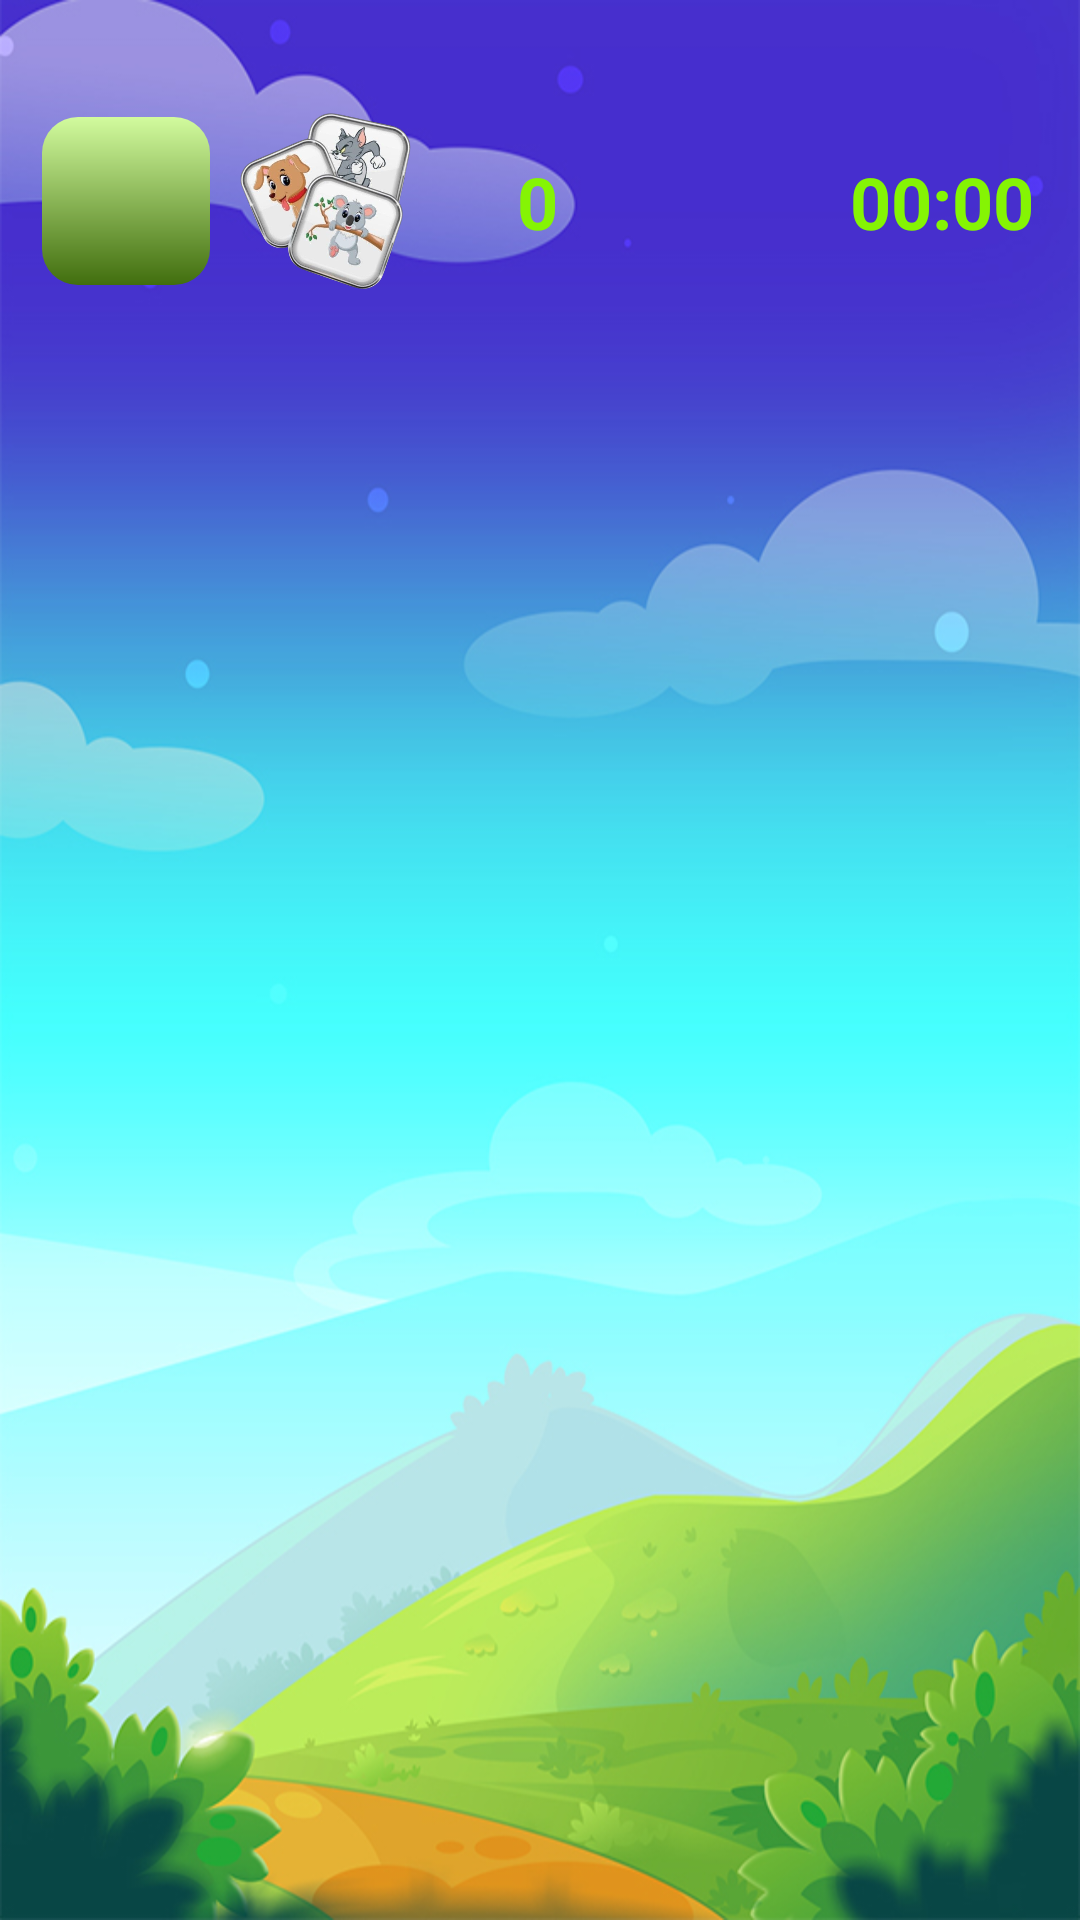

Screen size 1080x1920. Icon name, then its center in pixels as [x,y]:
card: [327,201]
